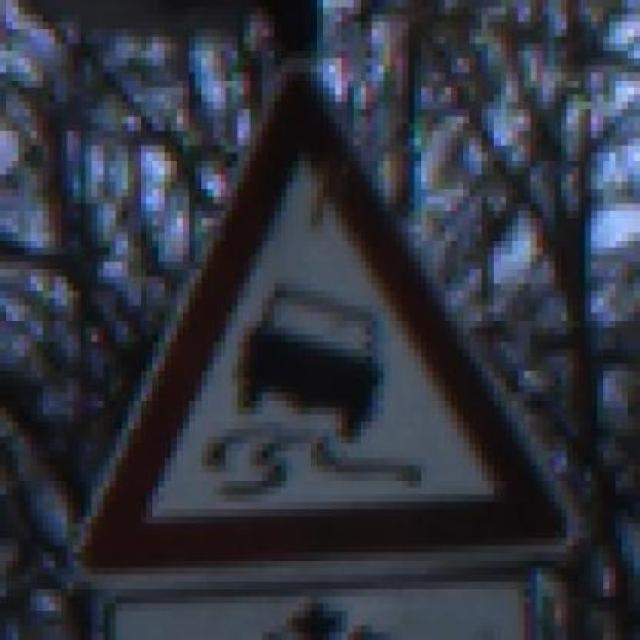Slippery Road Ahead: (54, 44, 586, 582)
